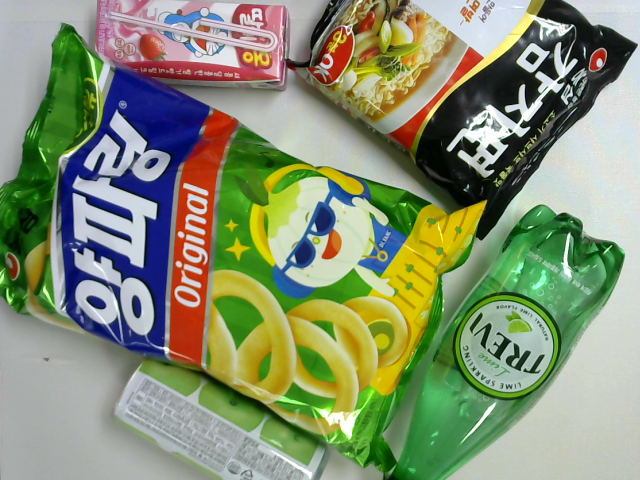Demisoda_Apple_Can_250ml: (109, 356, 332, 480)
Oninon_Ring: (1, 22, 489, 472)
Potato: (283, 2, 639, 242)
Strawberry_E_Mong: (93, 1, 289, 91)
Treviraim_500ml: (390, 204, 625, 480)
